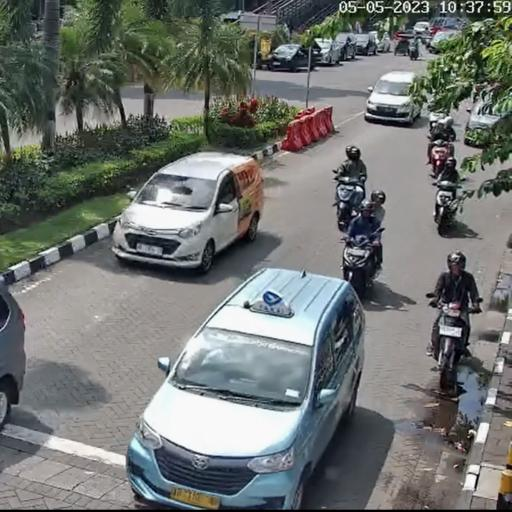mobil: (127, 270, 387, 512), (113, 144, 264, 270), (363, 63, 424, 128)
motor: (426, 292, 482, 398), (340, 235, 384, 299), (331, 166, 367, 231), (427, 179, 467, 234), (425, 129, 457, 178)
